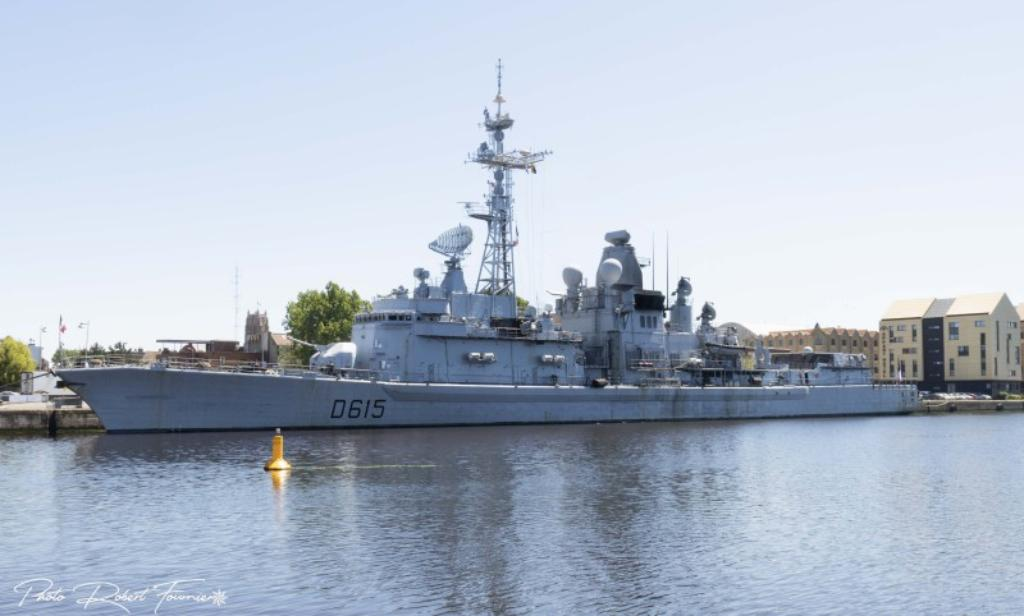Warship: (46, 60, 922, 438)
